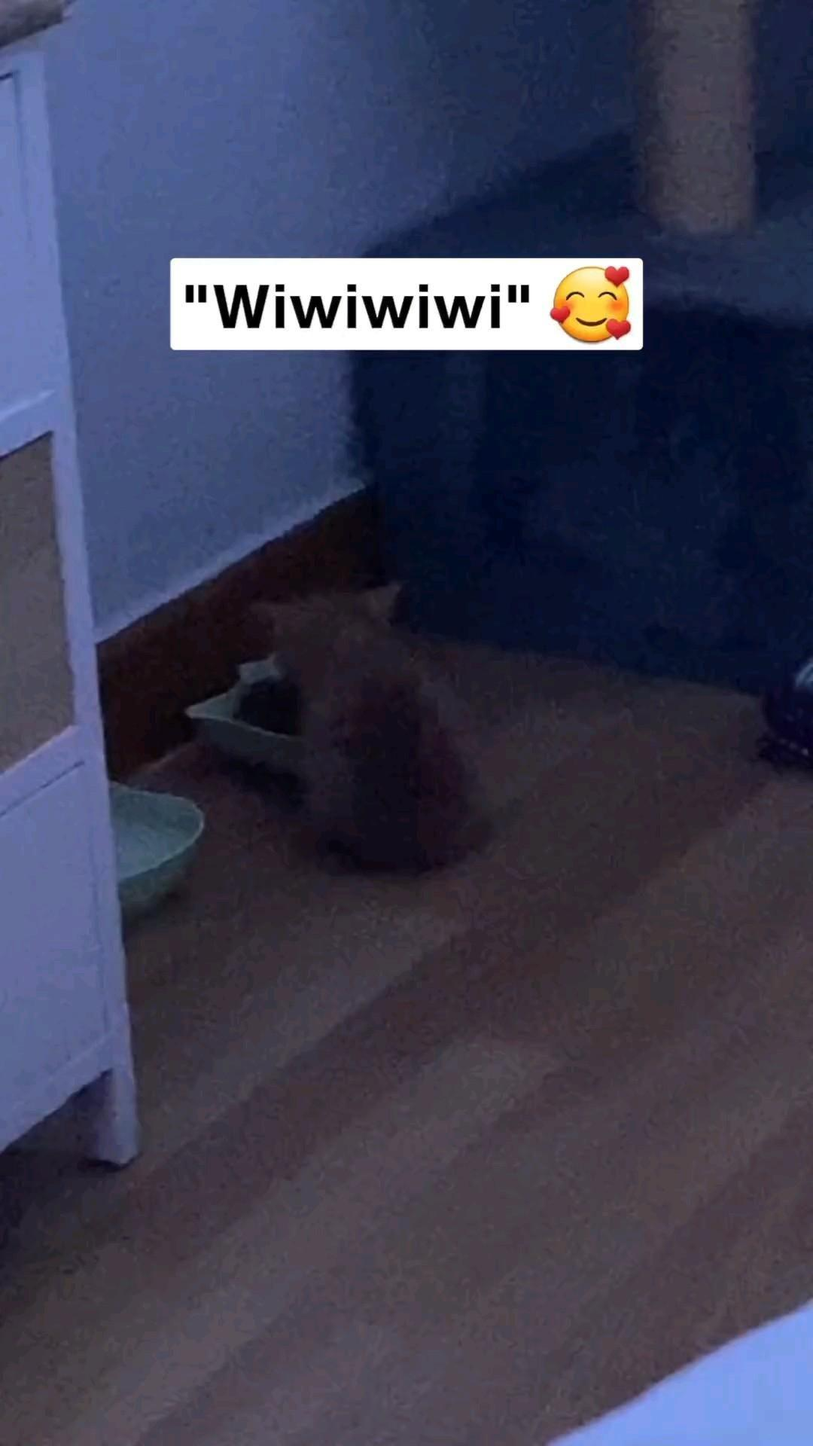non-dog: (253, 578, 479, 883)
